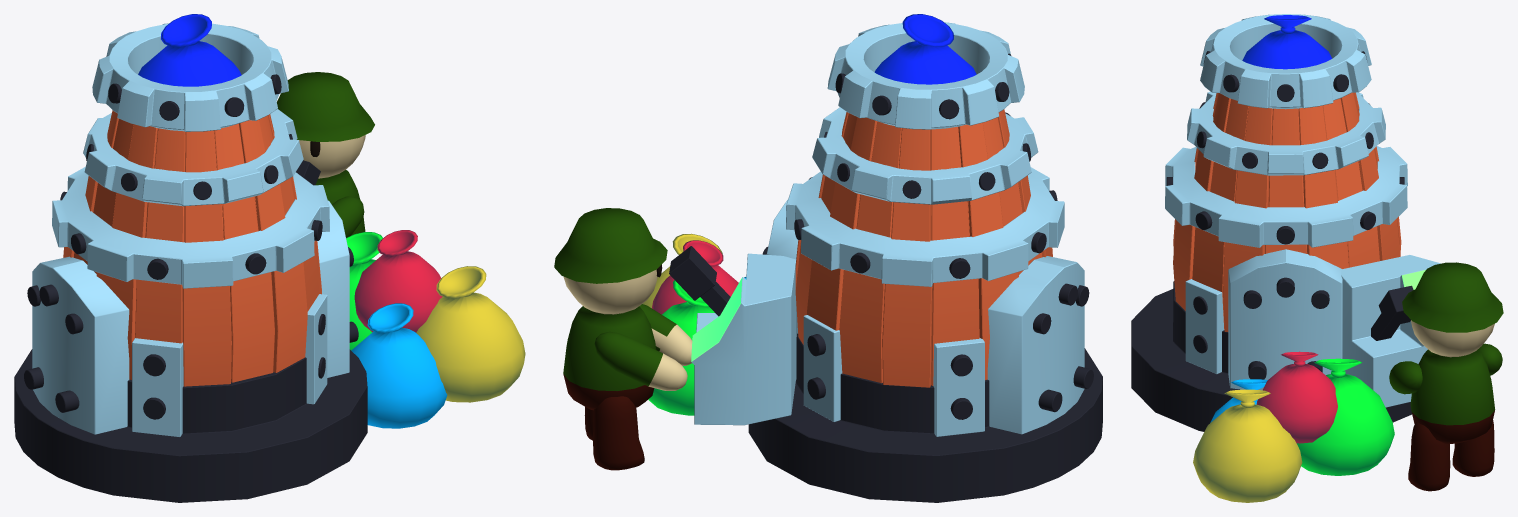
Rendered from bomba_3_.fbx.
3 views of the same model, side by side, from view 1: azimuth 30°, elevation 25°; view 2: azimuth 150°, elevation 25°; view 3: azimuth 270°, elevation 25° (orthographic). The views are drawn at different scales.
Parts seen in each view (by area): view 1: bomba 3, Sphere.001, bomba adam, Sphere.004; view 2: bomba 3, bomba adam, Sphere.001, Sphere.004; view 3: bomba 3, Sphere.001, bomba adam, Sphere.004.
Boxes of the visible parts, x1=… form: bomba 3: x1=14, y1=23, x2=367, y2=502; Sphere.001: x1=346, y1=230, x2=525, y2=428; bomba adam: x1=277, y1=72, x2=374, y2=237; Sphere.004: x1=138, y1=14, x2=241, y2=86; bomba 3: x1=669, y1=22, x2=1102, y2=502; bomba adam: x1=554, y1=208, x2=692, y2=470; Sphere.001: x1=642, y1=233, x2=746, y2=415; Sphere.004: x1=874, y1=14, x2=976, y2=84; bomba 3: x1=1131, y1=14, x2=1440, y2=431; Sphere.001: x1=1193, y1=351, x2=1394, y2=502; bomba adam: x1=1389, y1=262, x2=1503, y2=491; Sphere.004: x1=1242, y1=15, x2=1332, y2=69.
Size of the model in its own units: 396 by 353 by 312.
